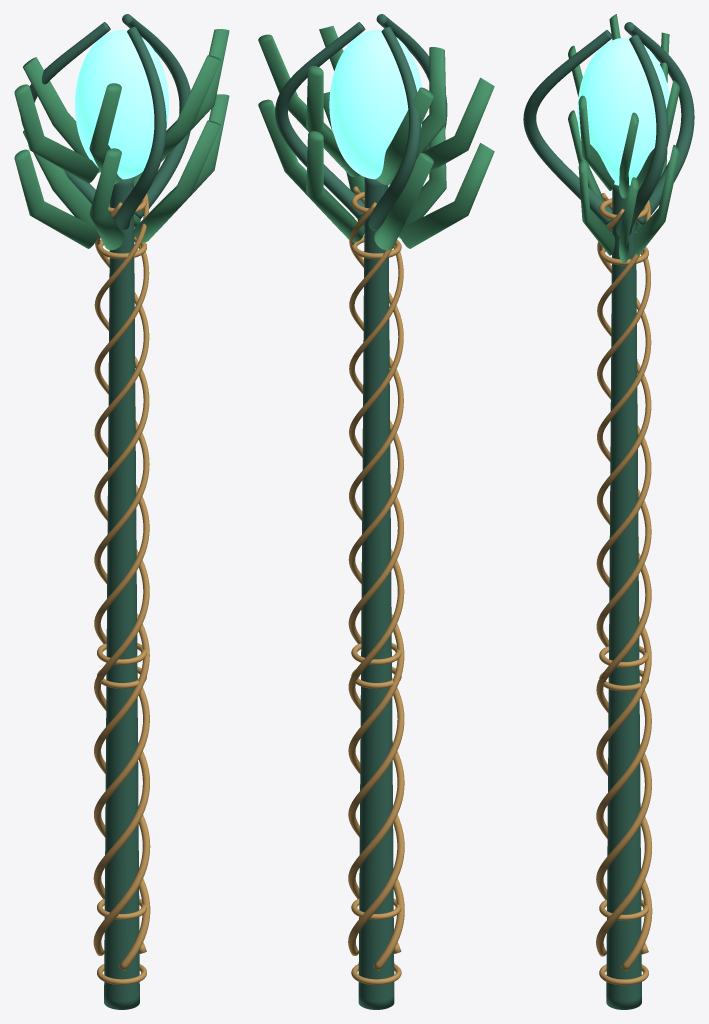
3 views of the same model, side by side, from view 1: azimuth 30°, elevation 25°; view 2: azimuth 150°, elevation 25°; view 3: azimuth 270°, elevation 25° (orthographic).
Visible parts, largest first — view 1: HonGioi_Asset; view 2: HonGioi_Asset; view 3: HonGioi_Asset.
Boxes of the visible parts, left/top/right/bottom form: HonGioi_Asset: left=14, top=14, right=229, bottom=1009; HonGioi_Asset: left=258, top=14, right=494, bottom=1009; HonGioi_Asset: left=523, top=14, right=694, bottom=1009.
Size of the model in its own units: 0.7957 by 3.31 by 0.5275.
